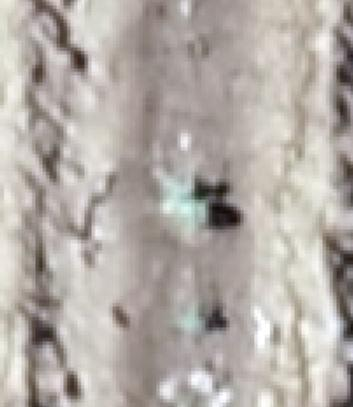cotton: (172, 183, 204, 227), (180, 306, 208, 330)
